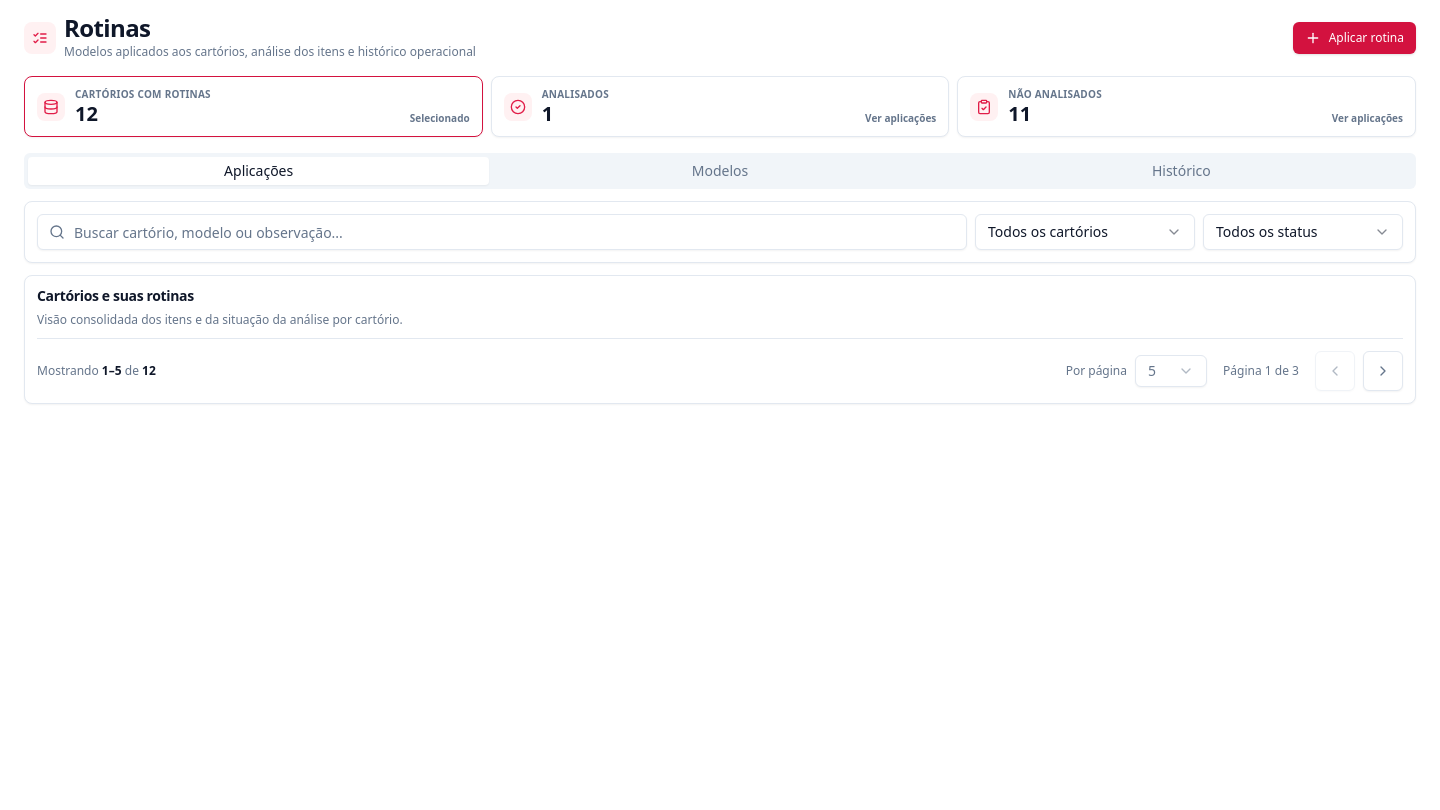
CS/CX rotinas — permissões › permite adicionar várias observações ao aplicar uma rotina
Step 1. Click the button "Aplicar rotina" → (1354, 38), box [1293, 22, 1416, 54]
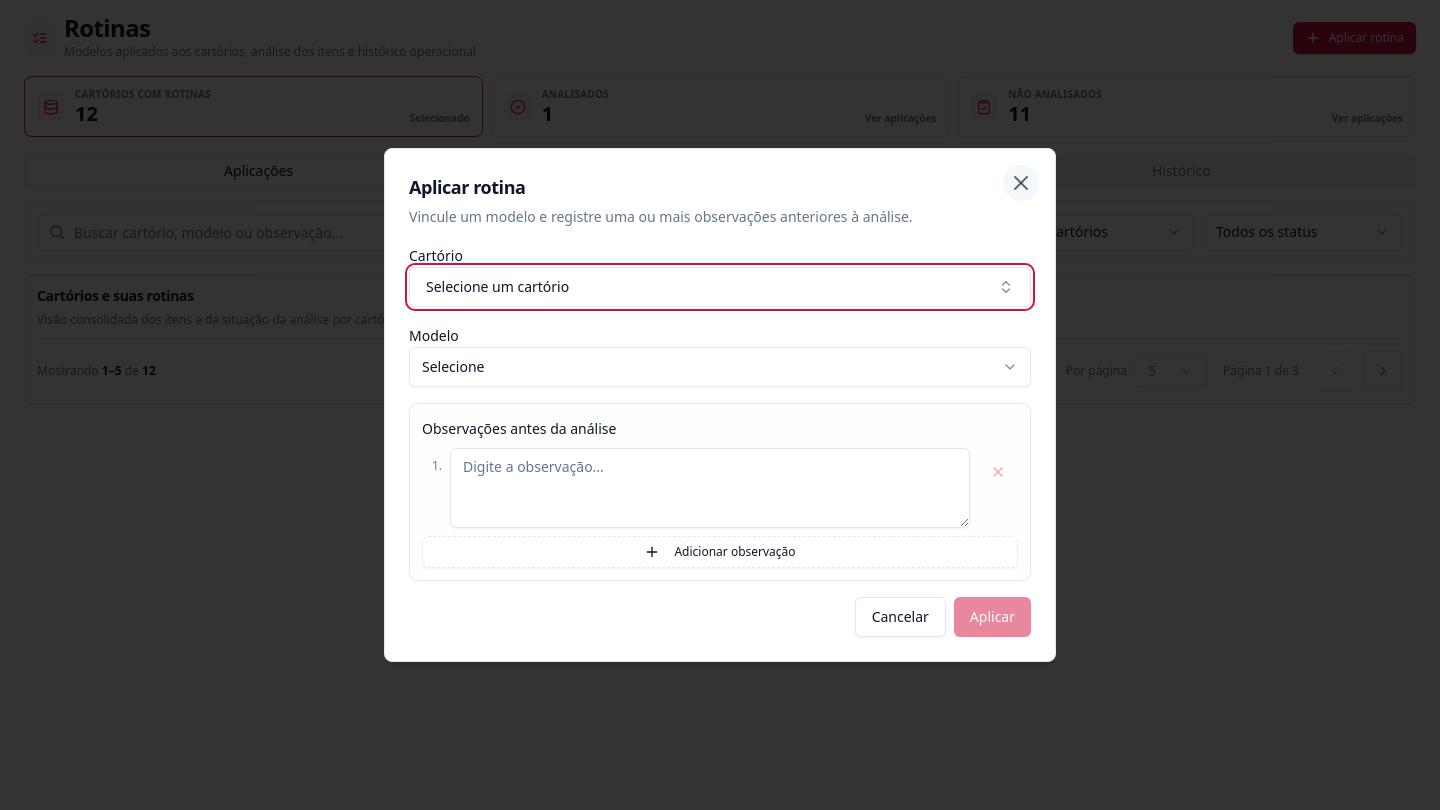
Result: the text box named "Observações antes da análise 1" is shown at [450, 448, 970, 528]
Step 2. Click the button "Adicionar observação" → (720, 552), box [422, 536, 1018, 568]
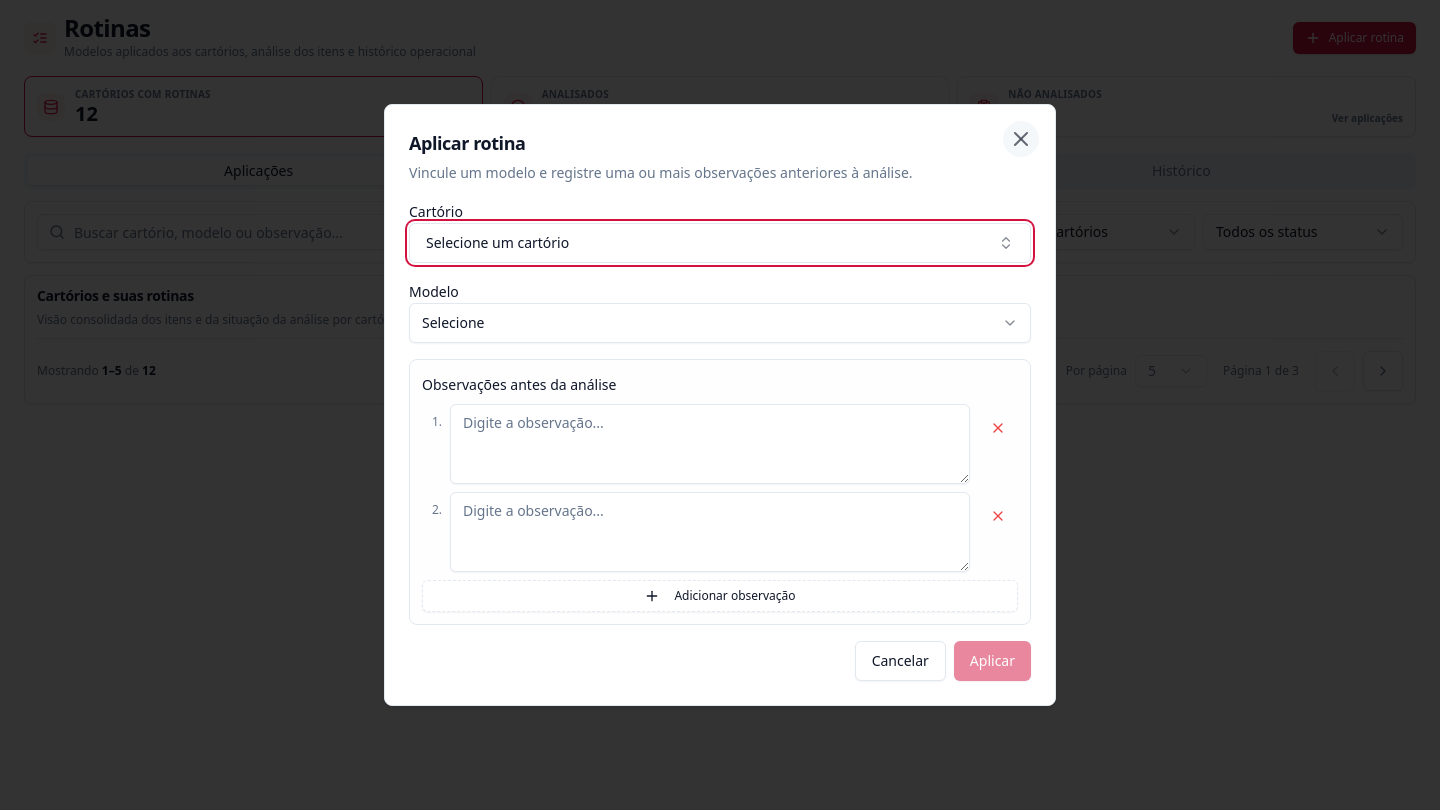
Result: the text box named "Observações antes da análise 2" is shown at [450, 492, 970, 572]
